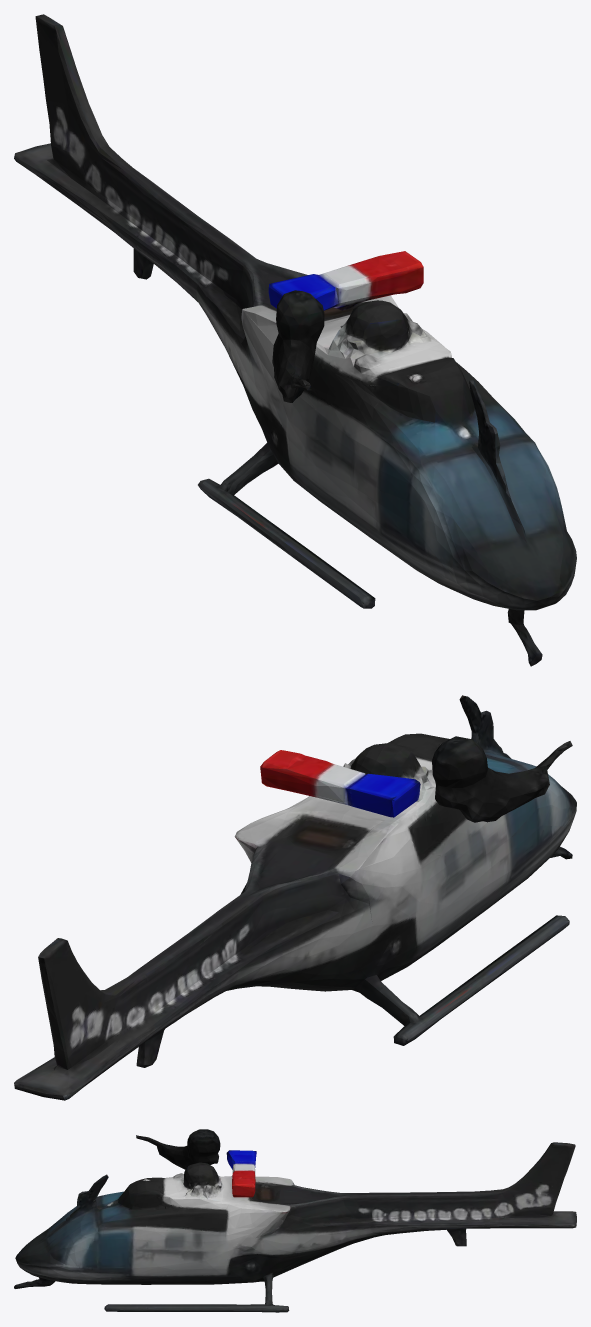
The model's file is heli_black.glb.
The picture shows the model from 3 angles, top to bottom: view 1: azimuth 30°, elevation 25°; view 2: azimuth 150°, elevation 25°; view 3: azimuth 270°, elevation 25°; orthographic projection. The views are drawn at different scales.
Parts seen in each view (by area): view 1: geometry_0; view 2: geometry_0; view 3: geometry_0.
Part boxes in pixels (<box>): geometry_0: <box>14,14,576,666</box>; geometry_0: <box>14,695,576,1100</box>; geometry_0: <box>14,1129,576,1312</box>.
Bounding box in the file's own units: 0.2691 × 0.2953 × 1.
1 material, 1 textured.
